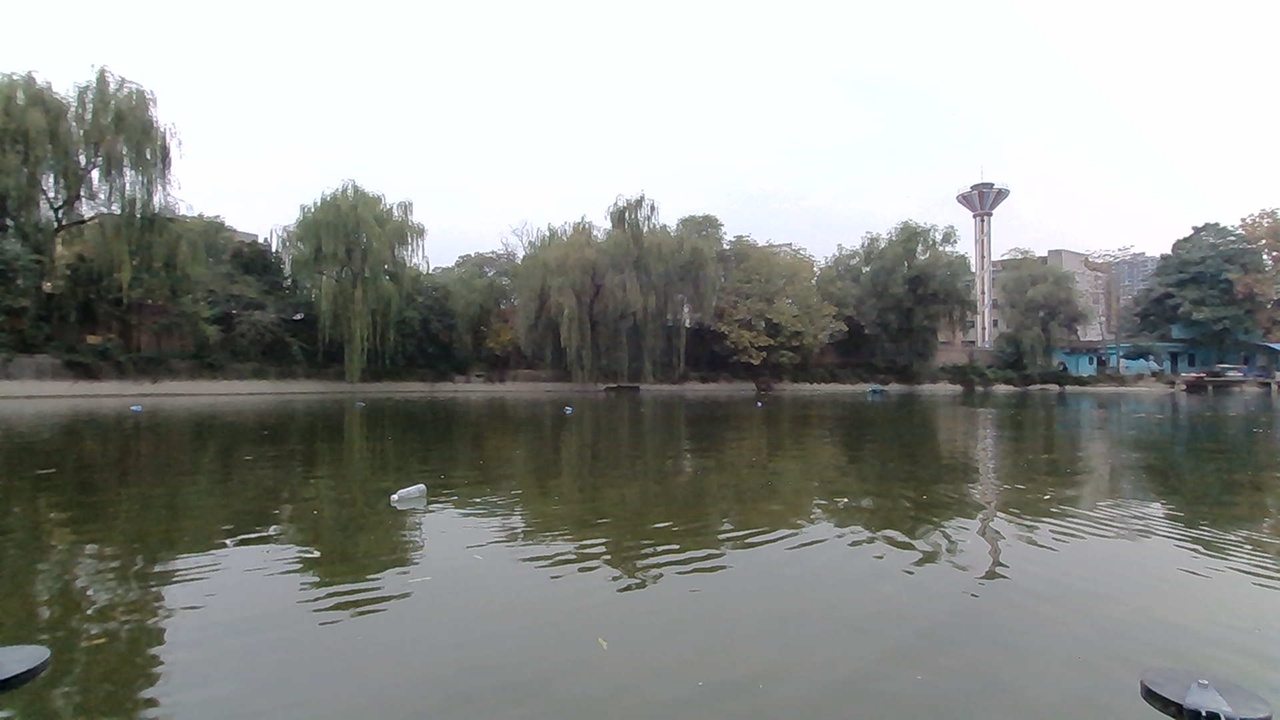bottle: (383, 482, 442, 511), (557, 402, 588, 420)
